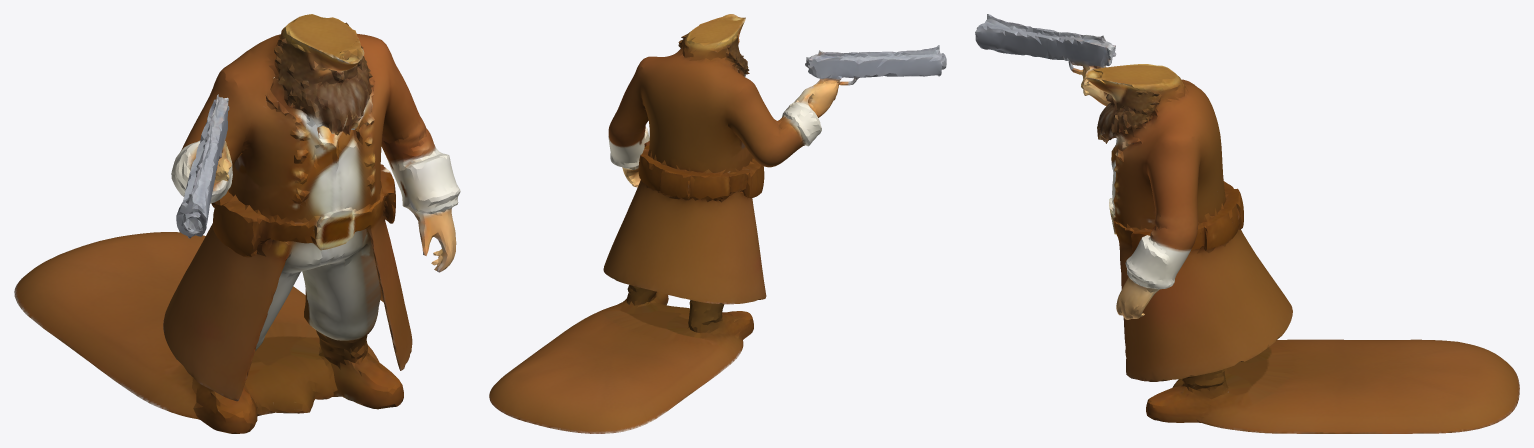
File: pirata.glb
3 renders of one model, left to right at view 1: azimuth 30°, elevation 25°; view 2: azimuth 150°, elevation 25°; view 3: azimuth 270°, elevation 25°, orthographic. The views are drawn at different scales.
Parts seen in each view (by area): view 1: pirata; view 2: pirata; view 3: pirata.
Part boxes in pixels (x1,y1,x2,y2): pirata: [14, 14, 460, 433]; pirata: [489, 14, 946, 433]; pirata: [975, 14, 1519, 433].
Size of the model in its own units: 1.13 by 1.14 by 1.79.
1 material, 1 textured.
